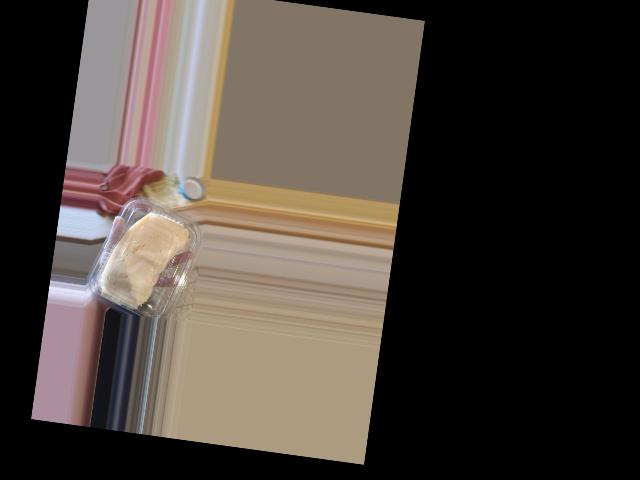cheese: (89, 190, 203, 323)
